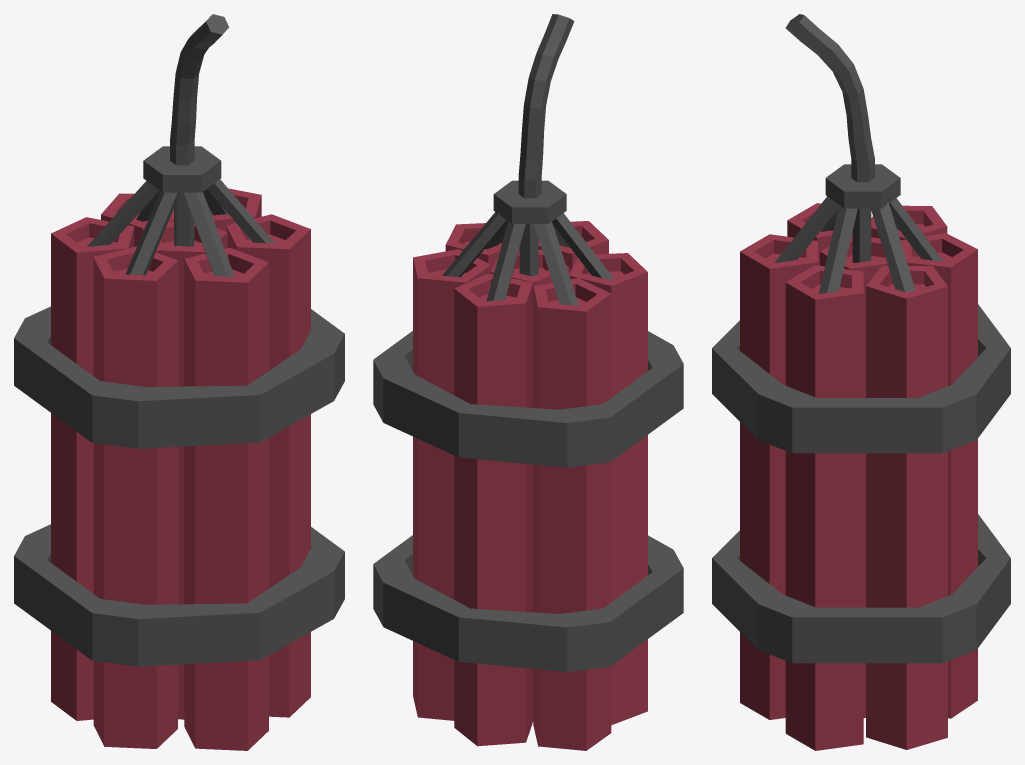
The model's file is dynamite-b.glb.
The picture shows the model from 3 angles, left to right: view 1: azimuth 30°, elevation 25°; view 2: azimuth 150°, elevation 25°; view 3: azimuth 270°, elevation 25°; orthographic projection. The views are drawn at different scales.
Parts seen in each view (by area): view 1: Dynamite B (×2); view 2: Dynamite B (×2); view 3: Dynamite B (×2).
Part boxes in pixels (x1,y1,x2,y2): Dynamite B (×2): [14, 14, 344, 750]; Dynamite B (×2): [373, 14, 683, 750]; Dynamite B (×2): [712, 14, 1010, 750].
Size of the model in its own units: 0.1876 by 0.5055 by 0.1993.
